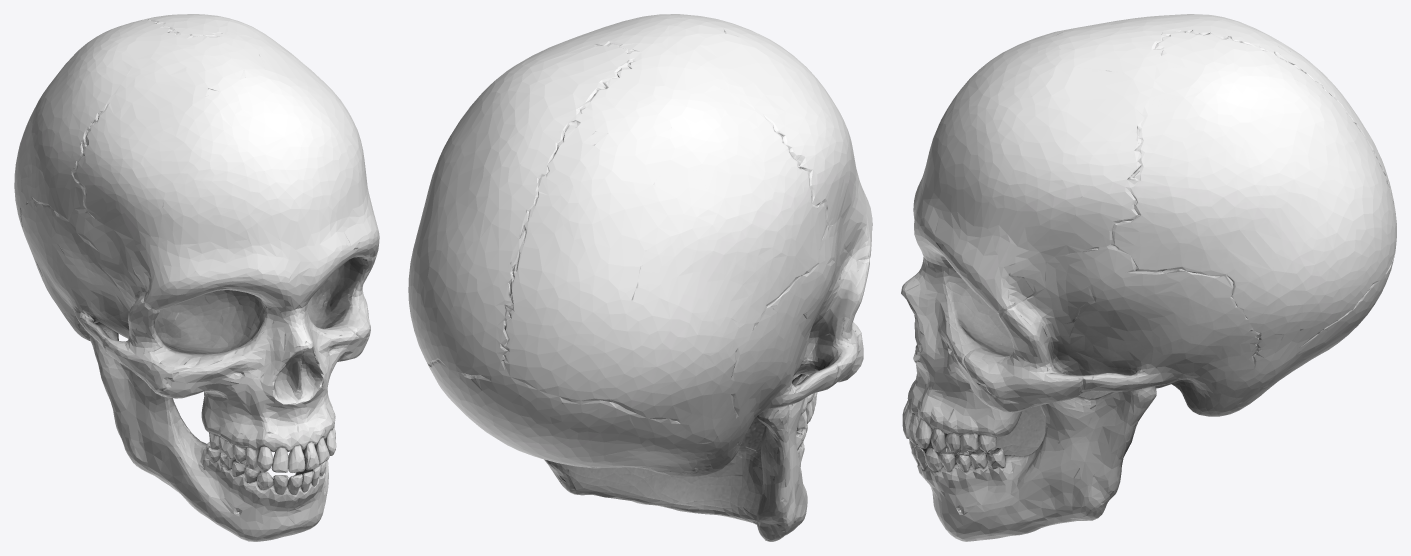
Rendered from Skull_Sep.glb.
3 renders of one model, left to right at view 1: azimuth 30°, elevation 25°; view 2: azimuth 150°, elevation 25°; view 3: azimuth 270°, elevation 25°, orthographic. The views are drawn at different scales.
Parts seen in each view (by area): view 1: SkullTop, SkullBottom; view 2: SkullTop, SkullBottom; view 3: SkullTop, SkullBottom.
Part boxes in pixels (<box>): SkullTop: <box>14,14,379,472</box>; SkullBottom: <box>89,322,328,541</box>; SkullTop: <box>408,14,872,476</box>; SkullBottom: <box>544,374,807,541</box>; SkullTop: <box>901,14,1396,452</box>; SkullBottom: <box>909,386,1156,541</box>.
Bounding box in the file's own units: 0.5664 × 0.8648 × 0.7902.
1 material, 1 textured.
